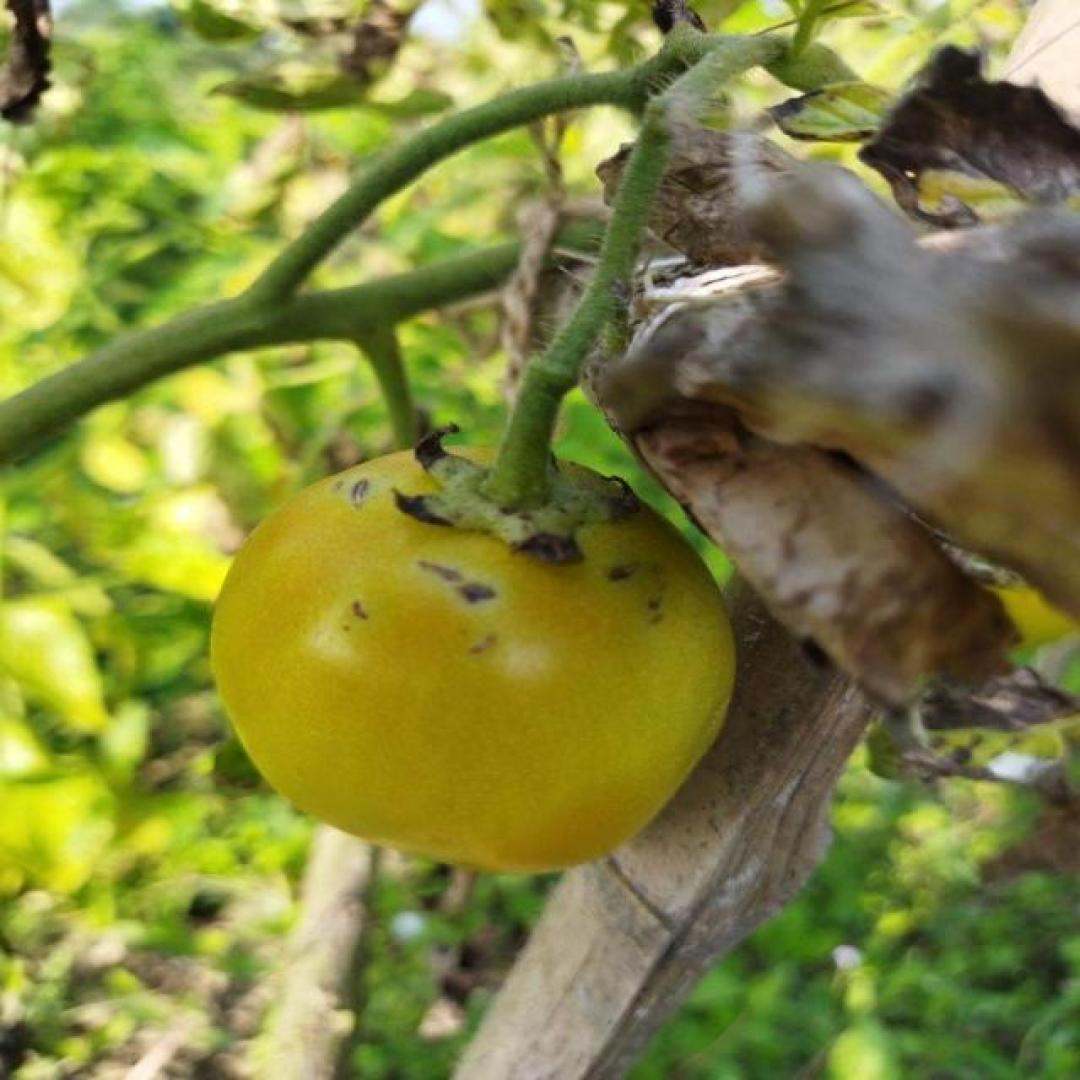setengah_matang: (204, 440, 739, 876)
